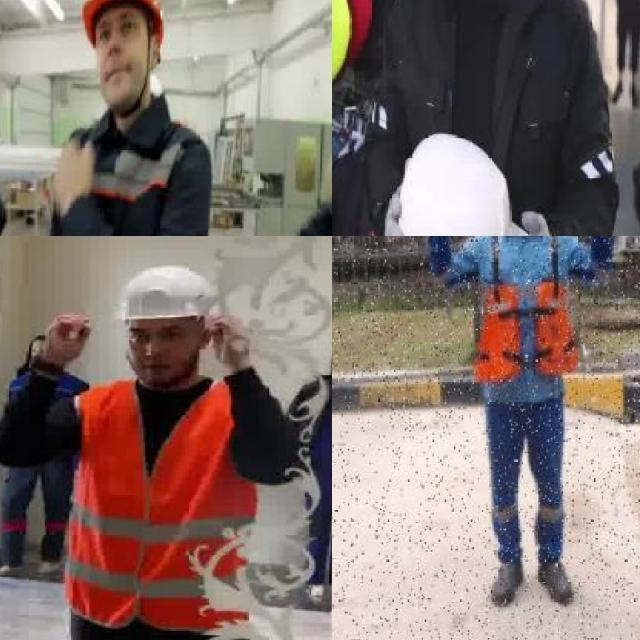apron: (509, 206, 555, 236), (385, 184, 408, 236)
